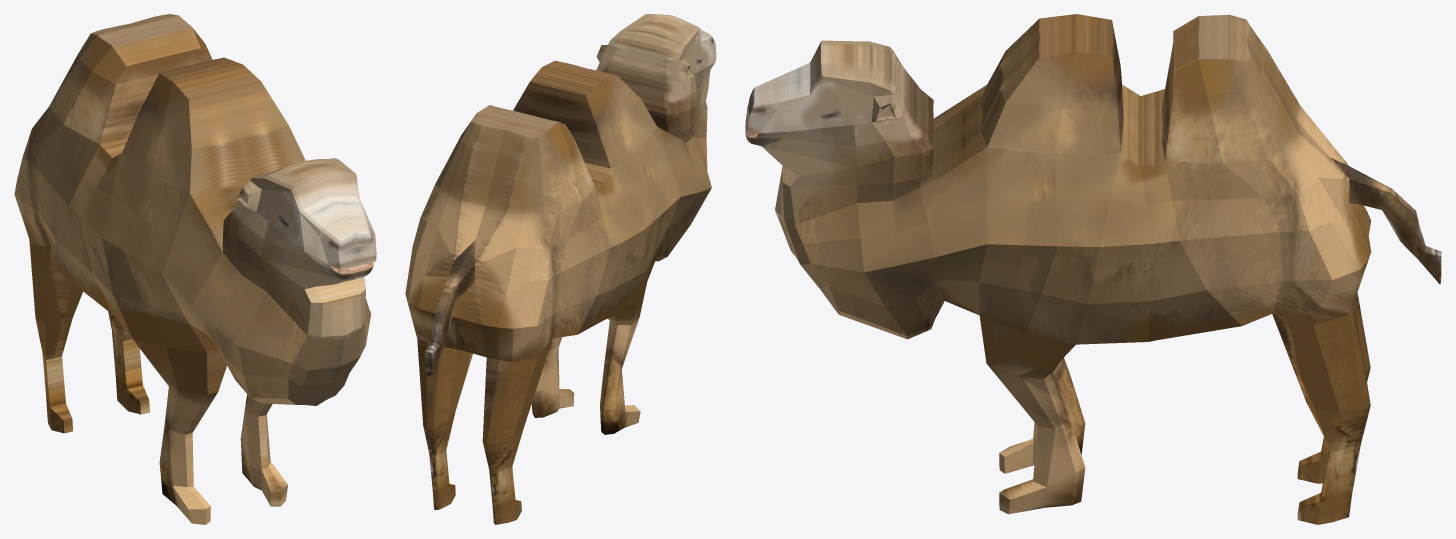
File: rakuda.fbx
3 renders of one model, left to right at view 1: azimuth 30°, elevation 25°; view 2: azimuth 150°, elevation 25°; view 3: azimuth 270°, elevation 25°, orthographic. The views are drawn at different scales.
Visible parts, largest first — view 1: 立方体; view 2: 立方体; view 3: 立方体.
Part boxes in pixels (<box>): 立方体: <box>14,14,376,524</box>; 立方体: <box>405,14,716,524</box>; 立方体: <box>745,14,1441,524</box>.
Size of the model in its own units: 5.66 by 12.03 by 16.23.
